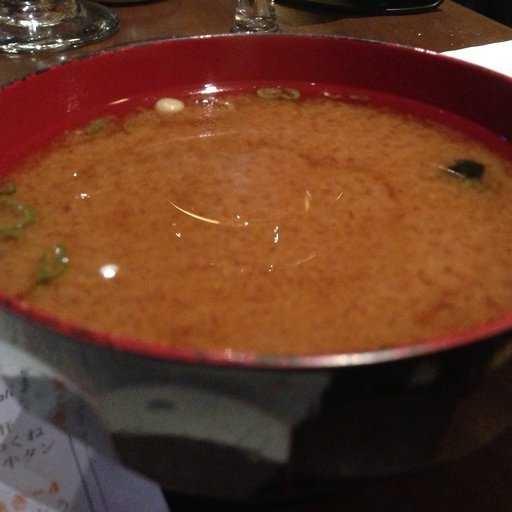soup: (1, 49, 512, 371)
